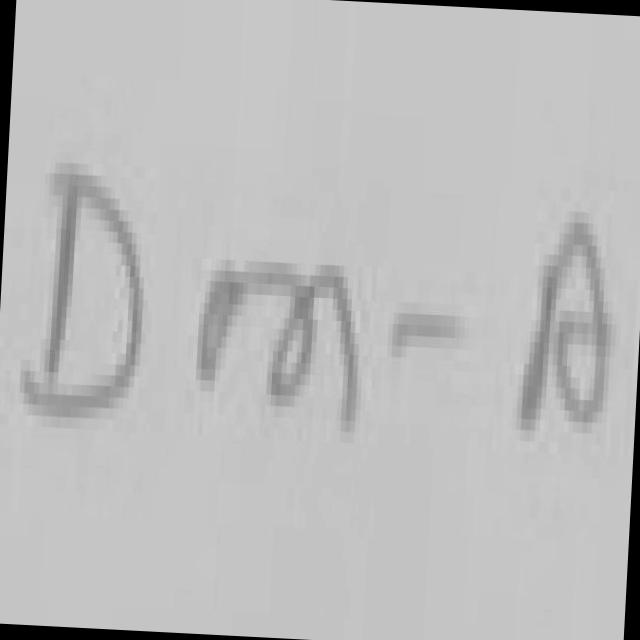A: (526, 223, 611, 425)
D: (25, 174, 143, 416)
n: (268, 274, 358, 427)
o: (201, 271, 248, 375)
